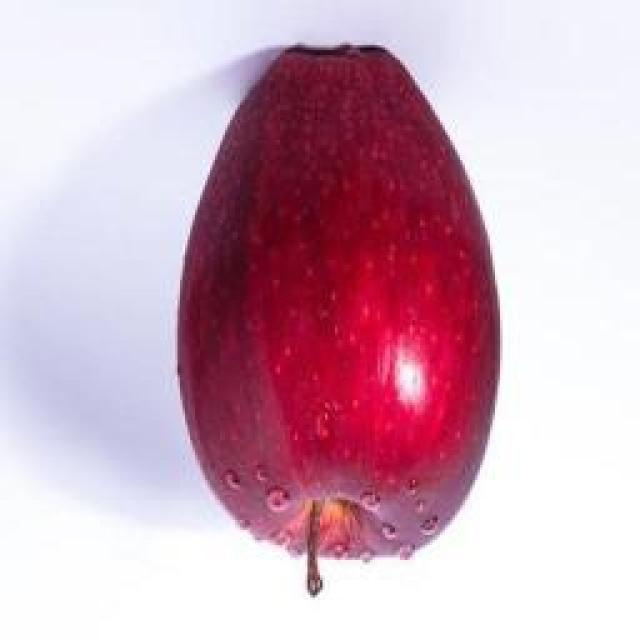Apple: (179, 46, 499, 593)
